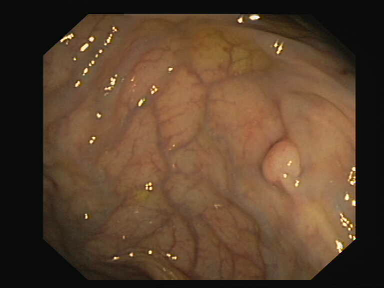polyp: (253, 126, 313, 193)
